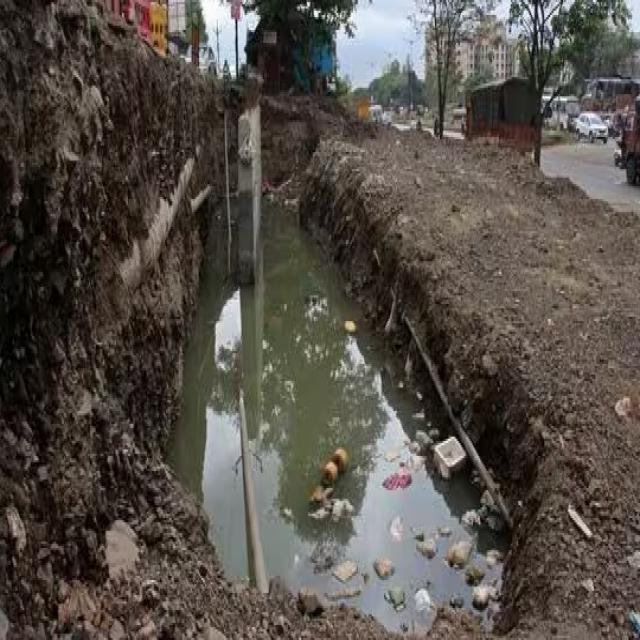Breeding Place: (145, 99, 540, 640)
